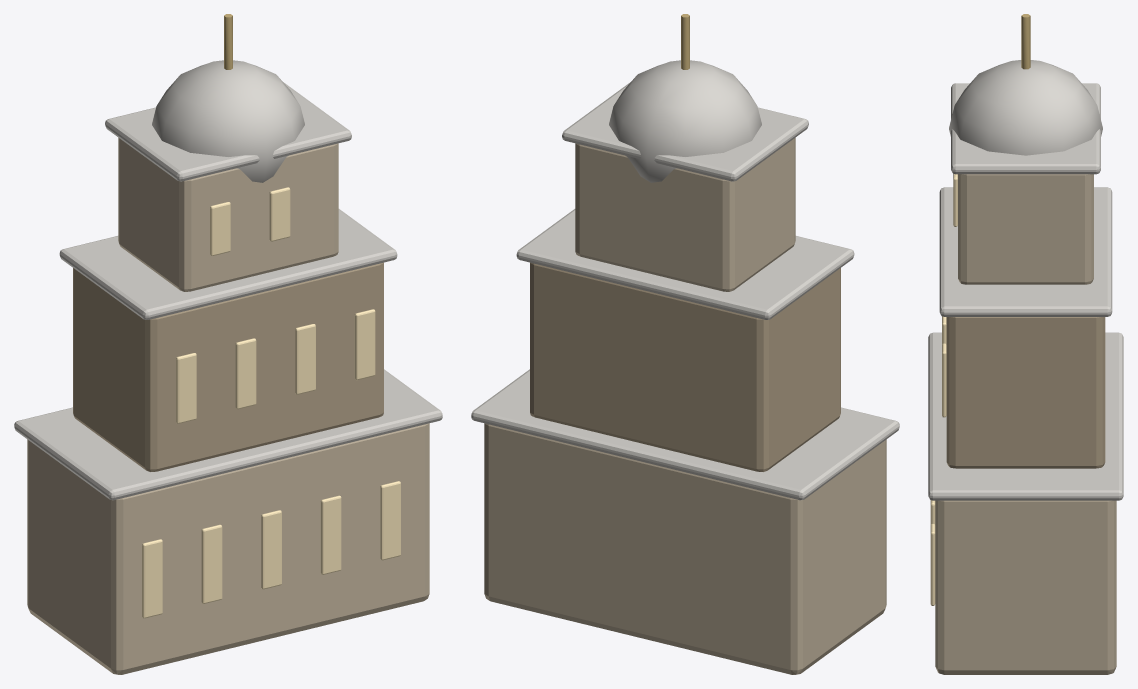
Rendered from archive.glb.
3 renders of one model, left to right at view 1: azimuth 30°, elevation 25°; view 2: azimuth 150°, elevation 25°; view 3: azimuth 270°, elevation 25°, orthographic.
Parts seen in each view (by area): view 1: archive_Palette, archive_Glow; view 2: archive_Palette; view 3: archive_Palette, archive_Glow.
Boxes of the visible parts, x1,y1,x2,y2 form: archive_Palette: [14, 14, 442, 674]; archive_Glow: [142, 187, 400, 618]; archive_Palette: [471, 14, 899, 674]; archive_Palette: [928, 14, 1123, 674]; archive_Glow: [930, 173, 957, 605].
Size of the model in its own units: 1.68 by 2.85 by 0.86.
